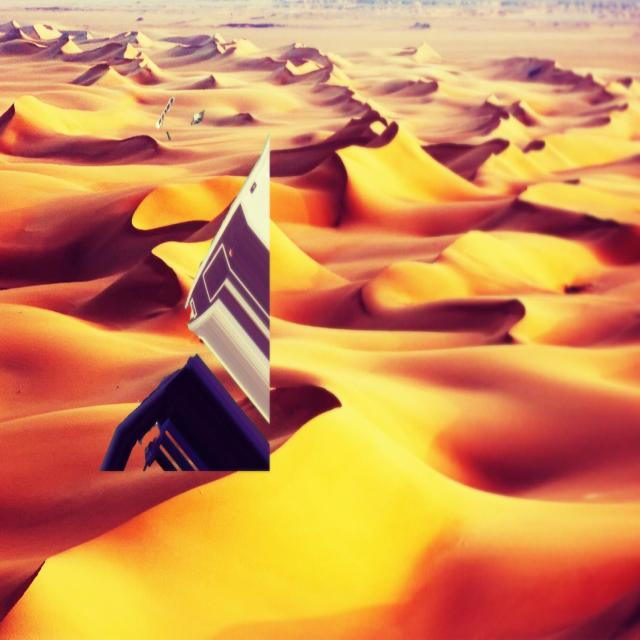airplane: (100, 134, 271, 470)
